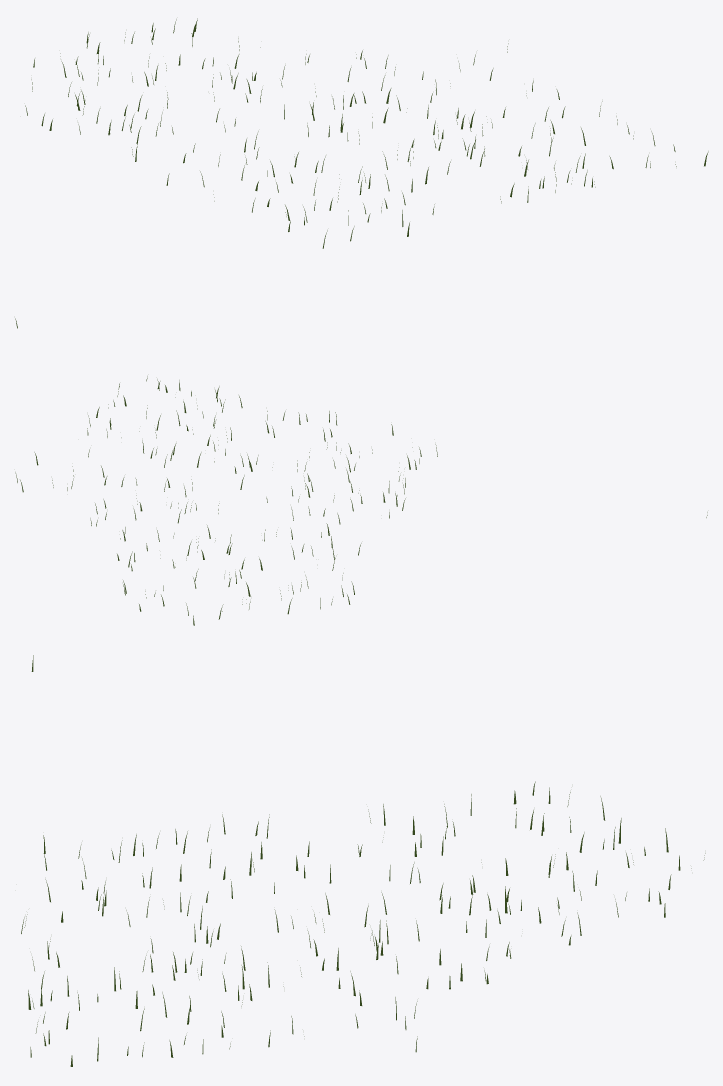
3 renders of one model, top to bottom at view 1: azimuth 30°, elevation 25°; view 2: azimuth 150°, elevation 25°; view 3: azimuth 270°, elevation 25°, orthographic. The views are drawn at different scales.
Parts seen in each view (by area): view 1: GrassPatch; view 2: GrassPatch; view 3: GrassPatch.
Part boxes in pixels (bbox=[...]): GrassPatch: bbox=[15, 18, 708, 328]; GrassPatch: bbox=[15, 376, 707, 625]; GrassPatch: bbox=[21, 655, 705, 1066].
Size of the model in its own units: 16.56 by 0.491 by 12.09.
